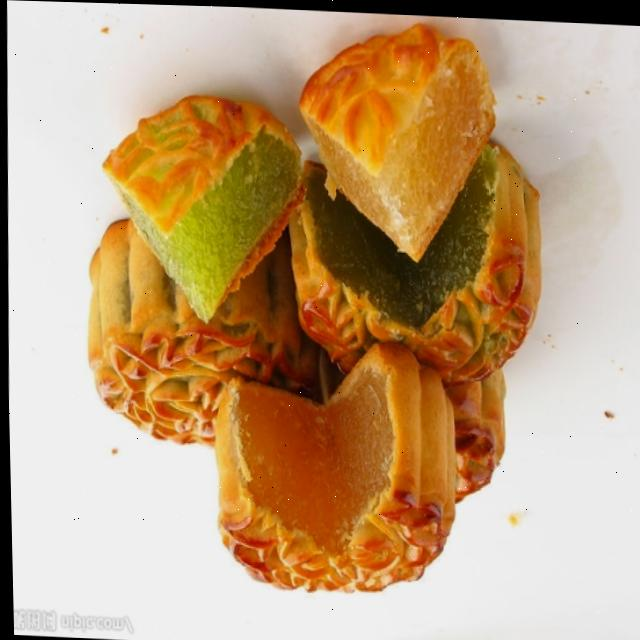蛋糕甜品: (48, 17, 580, 602)
